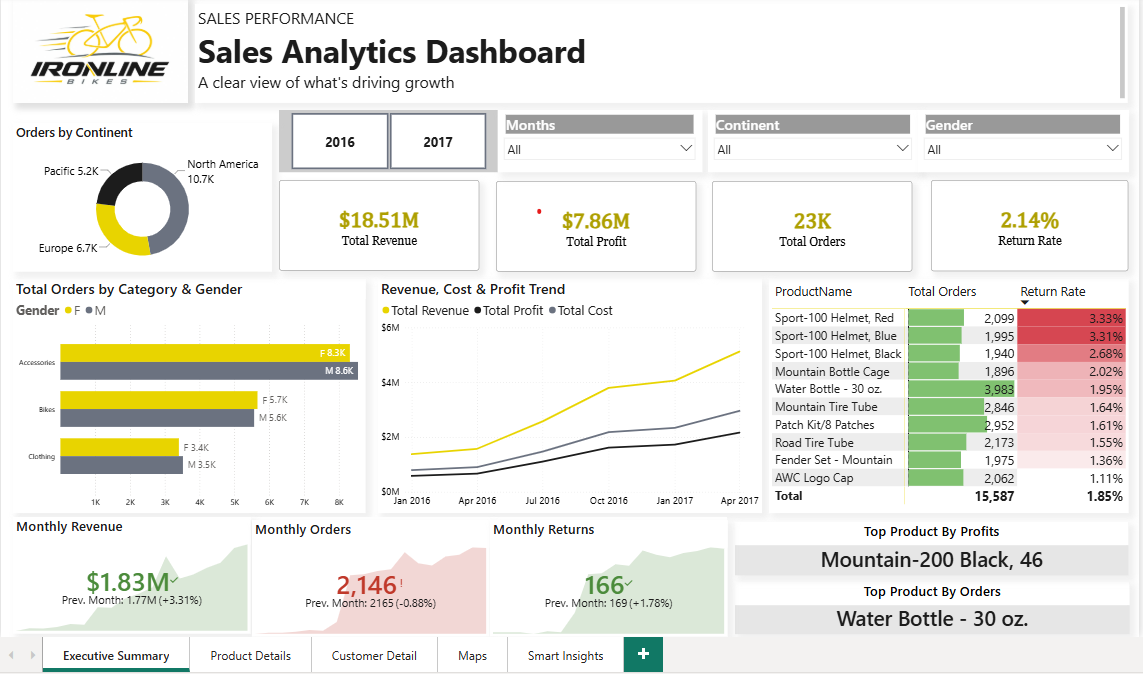

This screenshot's page, from the dashboard's own definition file:
{"tool":"powerbi","page":{"name":"Executive Summary","canvas":[1920,1080],"ordinal":0},"visuals":[{"type":"slicer","fields":{"Values":["Calendar_lookups.Year"]},"box":[469.4,190.5,369,105.4],"z":0},{"type":"card","title":"Total Profit","fields":{"Values":["Sales Data.Total Profit"]},"box":[834.8,310.4,338.4,152.9],"z":0,"group":"g1"},{"type":"kpi","title":"Monthly Revenue","fields":{"TrendLine":["Calendar_lookups.Start of Month"],"Goal":["Sales Data.Prev . Month Revenue"],"Indicator":["Sales Data.Total Revenue"]},"box":[19.5,877,401.3,197.3],"z":0,"group":"g3"},{"type":"card","title":"Total Orders","fields":{"Values":["Sales Data.Total Orders"]},"box":[1200.2,310.9,338.4,152.9],"z":1000,"group":"g1"},{"type":"clusteredBarChart","title":"Total Orders by Category &  Gender","fields":{"Category":["Product_Categories_lookups.CategoryName"],"Y":["Sales Data.Total Orders"],"Series":["Customers_lookups.Gender"]},"box":[20.4,476.2,595.2,394.5],"z":1000},{"type":"card","title":"Return Rate","fields":{"Values":["Returns Data.Return Rate"]},"box":[1569.6,310.2,333.4,154.1],"z":2000,"group":"g1"},{"type":"lineChart","title":"Revenue, Cost & Profit  Trend","fields":{"Y":["Sales Data.Total Revenue","Sales Data.Total Profit","Sales Data.Total Cost"],"Category":["Calendar_lookups.Start of Month.Variation.Date Hierarchy.Year","Calendar_lookups.Start of Month.Variation.Date Hierarchy.Quarter","Calendar_lookups.Start of Month.Variation.Date Hierarchy.Month","Calendar_lookups.Start of Month.Variation.Date Hierarchy.Day"]},"box":[636,476.2,647.9,394.5],"z":2000},{"type":"kpi","title":"Monthly Orders","fields":{"TrendLine":["Calendar_lookups.Start of Month"],"Indicator":["Sales Data.Total Orders"],"Goal":["Sales Data.Prev Month Orders"]},"box":[422.7,882.6,400.5,197.3],"z":2000,"group":"g3"},{"type":"slicer","fields":{"Values":["Territories.Continent"]},"box":[1192.9,190.5,356.4,105.4],"z":3000,"group":"g4"},{"type":"card","title":"Total Revenue","fields":{"Values":["Sales Data.Total Revenue"]},"box":[469.4,309.5,338.4,152.9],"z":3000,"group":"g1"},{"type":"pivotTable","fields":{"Values":["Sales Data.Total Orders","Returns Data.Return Rate"],"Rows":["Products_lookups.ProductName"]},"box":[1295.9,476.2,607.1,394.5],"z":3000},{"type":"donutChart","title":"Orders by Continent","fields":{"Y":["Sales Data.Total Orders"],"Category":["Territories.Continent"]},"box":[20.2,212.6,437.1,251.4],"z":4000},{"type":"kpi","title":"Monthly Returns","fields":{"TrendLine":["Calendar_lookups.Start of Month"],"Indicator":["Returns Data.Total Returns"],"Goal":["Returns Data.Prev Month Returns"]},"box":[824.1,882.6,400.5,197.3],"z":4000,"group":"g3"},{"type":"slicer","fields":{"Values":["Customers_lookups.Gender"]},"box":[1546.7,190.5,356.4,105.4],"z":5000,"group":"g4"},{"type":"card","title":"Top Product By Orders","fields":{"Values":["Min(Products_lookups.ProductName)"]},"box":[1238.3,986.4,666,87.9],"z":5000},{"type":"card","title":"Top Product By Profits","fields":{"Values":["Min(Products_lookups.ProductName)"]},"box":[1238.3,886.8,664.1,89.8],"z":6000},{"type":"image","box":[20.2,0,295.3,178.9],"z":7000},{"type":"slicer","fields":{"Values":["Calendar_lookups.Month Name"]},"box":[838.4,190.9,345.4,104.9],"z":7000,"group":"g2"},{"type":"group","id":"g1","title":"Cards","box":[469.4,309.5,1433.6,154.8],"z":8000},{"type":"textbox","box":[327.4,11.8,1574.4,167.1],"z":9000},{"type":"group","id":"g2","title":"Group 2","box":[838.4,190.5,1064.6,105.4],"z":10000},{"type":"group","id":"g3","title":"Group 3","box":[19.5,877,1205.1,203.1],"z":11000},{"type":"group","id":"g4","title":"Group 1","box":[1192.9,190.5,710.2,105.4],"z":15001,"group":"g2"}]}

Visuals, with their boxes on the page's 1920x1080 design canvas (x1, y1, x2, y2). These are canvas units, not pixel positions in the 1143x674 screenshot, which may show the page scaled, cropped or inside an application window:
slicer - Calendar_lookups.Year: (left=469, top=190, right=838, bottom=296)
"Total Profit" card: (left=835, top=310, right=1173, bottom=463)
"Monthly Revenue" kpi: (left=20, top=877, right=421, bottom=1074)
"Total Orders" card: (left=1200, top=311, right=1539, bottom=464)
"Total Orders by Category &  Gender" clusteredBarChart: (left=20, top=476, right=616, bottom=871)
"Return Rate" card: (left=1570, top=310, right=1903, bottom=464)
"Revenue, Cost & Profit  Trend" lineChart: (left=636, top=476, right=1284, bottom=871)
"Monthly Orders" kpi: (left=423, top=883, right=823, bottom=1080)
slicer - Territories.Continent: (left=1193, top=190, right=1549, bottom=296)
"Total Revenue" card: (left=469, top=310, right=808, bottom=462)
pivotTable - Sales Data.Total Orders x Returns Data.Return Rate: (left=1296, top=476, right=1903, bottom=871)
"Orders by Continent" donutChart: (left=20, top=213, right=457, bottom=464)
"Monthly Returns" kpi: (left=824, top=883, right=1225, bottom=1080)
slicer - Customers_lookups.Gender: (left=1547, top=190, right=1903, bottom=296)
"Top Product By Orders" card: (left=1238, top=986, right=1904, bottom=1074)
"Top Product By Profits" card: (left=1238, top=887, right=1902, bottom=977)
image: (left=20, top=0, right=316, bottom=179)
slicer - Calendar_lookups.Month Name: (left=838, top=191, right=1184, bottom=296)
"Cards" group: (left=469, top=310, right=1903, bottom=464)
textbox: (left=327, top=12, right=1902, bottom=179)
"Group 2" group: (left=838, top=190, right=1903, bottom=296)
"Group 3" group: (left=20, top=877, right=1225, bottom=1080)
"Group 1" group: (left=1193, top=190, right=1903, bottom=296)
